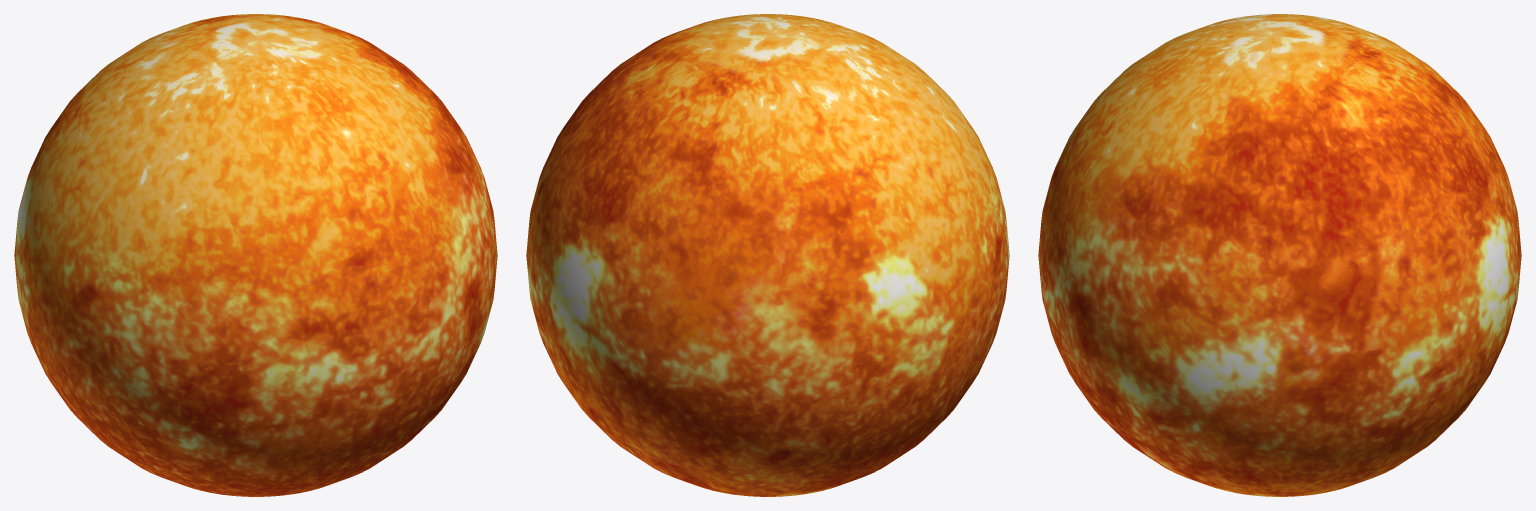
The model's file is sun.glb.
3 views of the same model, side by side, from view 1: azimuth 30°, elevation 25°; view 2: azimuth 150°, elevation 25°; view 3: azimuth 270°, elevation 25° (orthographic).
Visible parts, largest first — view 1: Sphere; view 2: Sphere; view 3: Sphere.
Part boxes in pixels (x1=…): Sphere: x1=14, y1=14, x2=497, y2=496; Sphere: x1=526, y1=14, x2=1009, y2=496; Sphere: x1=1038, y1=14, x2=1521, y2=496.
Size of the model in its own units: 2 by 2 by 2.
Materials: 1 (1 with a texture image).
